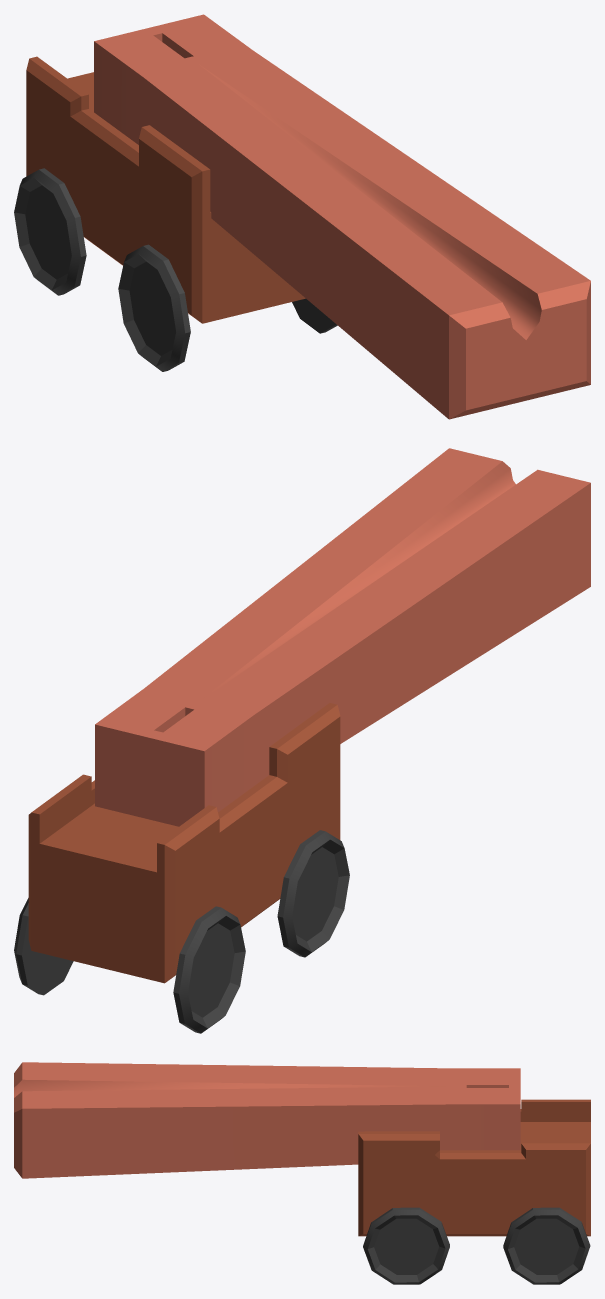
Rendered from SingleShotSlingshot_v1.fbx.
3 renders of one model, top to bottom at view 1: azimuth 30°, elevation 25°; view 2: azimuth 150°, elevation 25°; view 3: azimuth 270°, elevation 25°, orthographic. The views are drawn at different scales.
Visible parts, largest first — view 1: polySurface75.001; view 2: polySurface75.001; view 3: polySurface75.001.
Part boxes in pixels (x1,y1,x2,y2): polySurface75.001: (14, 14, 590, 419); polySurface75.001: (14, 448, 590, 1033); polySurface75.001: (14, 1062, 590, 1284).
Size of the model in its own units: 167 by 235 by 713.
